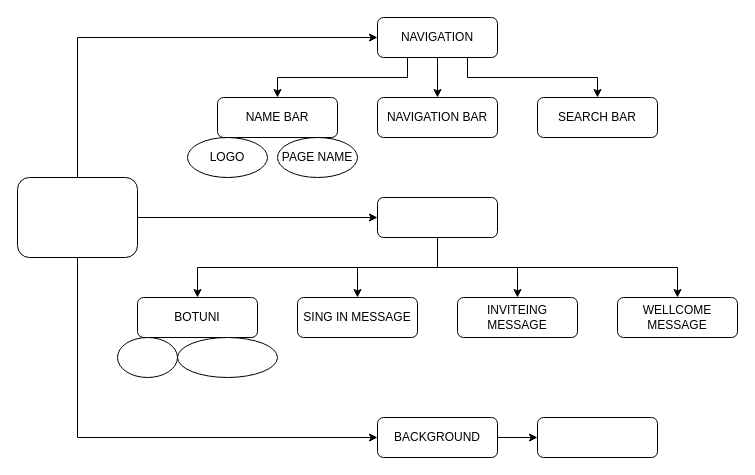
Some shapes in this 755 by 475 pixel diagram are drawn without their labels. The box of each missing label's shape, as (x1, y1, x2, y2) in pixels:
BACKGROUND IMAGE: (536, 416, 658, 458)
FORUM INTRO: (376, 196, 498, 238)
FORUM LANDING: (16, 176, 138, 258)
PRIJAVA: (116, 336, 178, 378)
REGISTRACIJA: (176, 336, 278, 378)
